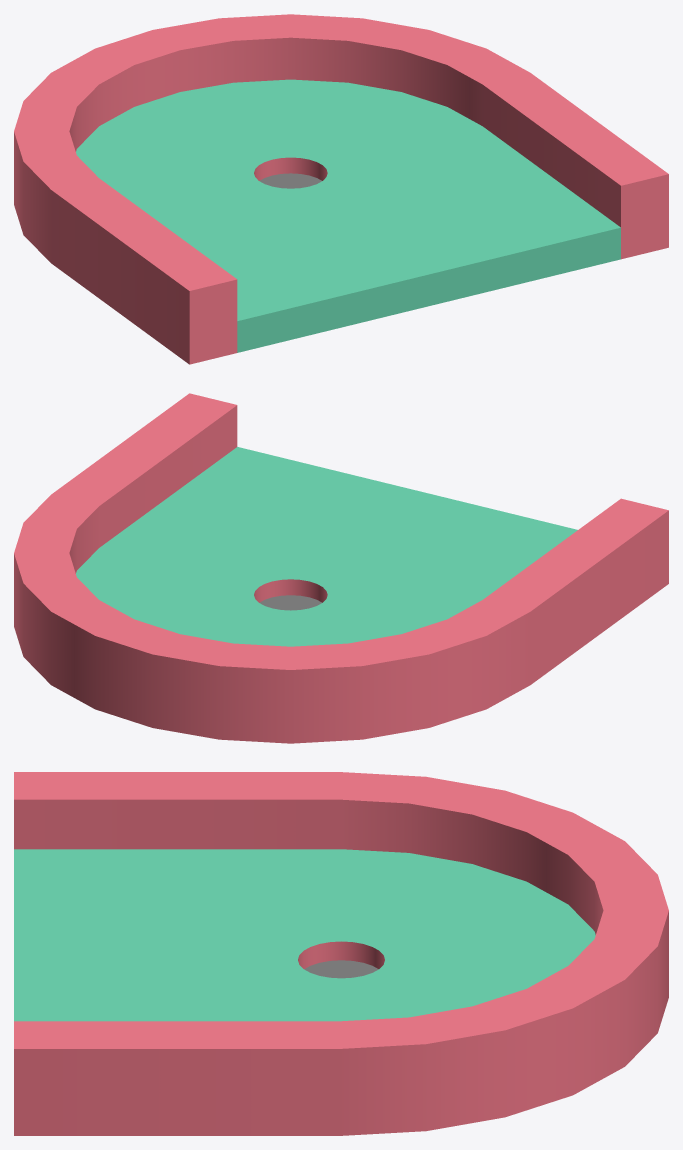
The model's file is holeRound.glb.
3 renders of one model, top to bottom at view 1: azimuth 30°, elevation 25°; view 2: azimuth 150°, elevation 25°; view 3: azimuth 270°, elevation 25°, orthographic. The views are drawn at different scales.
Visible parts, largest first — view 1: holeRound; view 2: holeRound; view 3: holeRound.
Boxes of the visible parts, x1,y1,x2,y2 form: holeRound: (14, 14, 668, 364); holeRound: (14, 393, 668, 743); holeRound: (14, 772, 668, 1135).
Size of the model in its own units: 0.9999 by 0.1466 by 0.9999.
